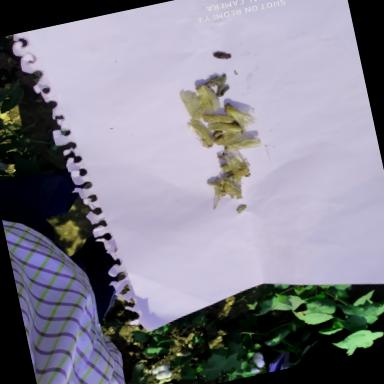abw: (177, 85, 214, 124), (182, 116, 218, 152), (190, 80, 223, 114), (224, 151, 255, 183), (222, 99, 256, 128), (206, 116, 246, 140), (218, 136, 264, 156), (208, 126, 250, 144), (202, 110, 234, 128)
